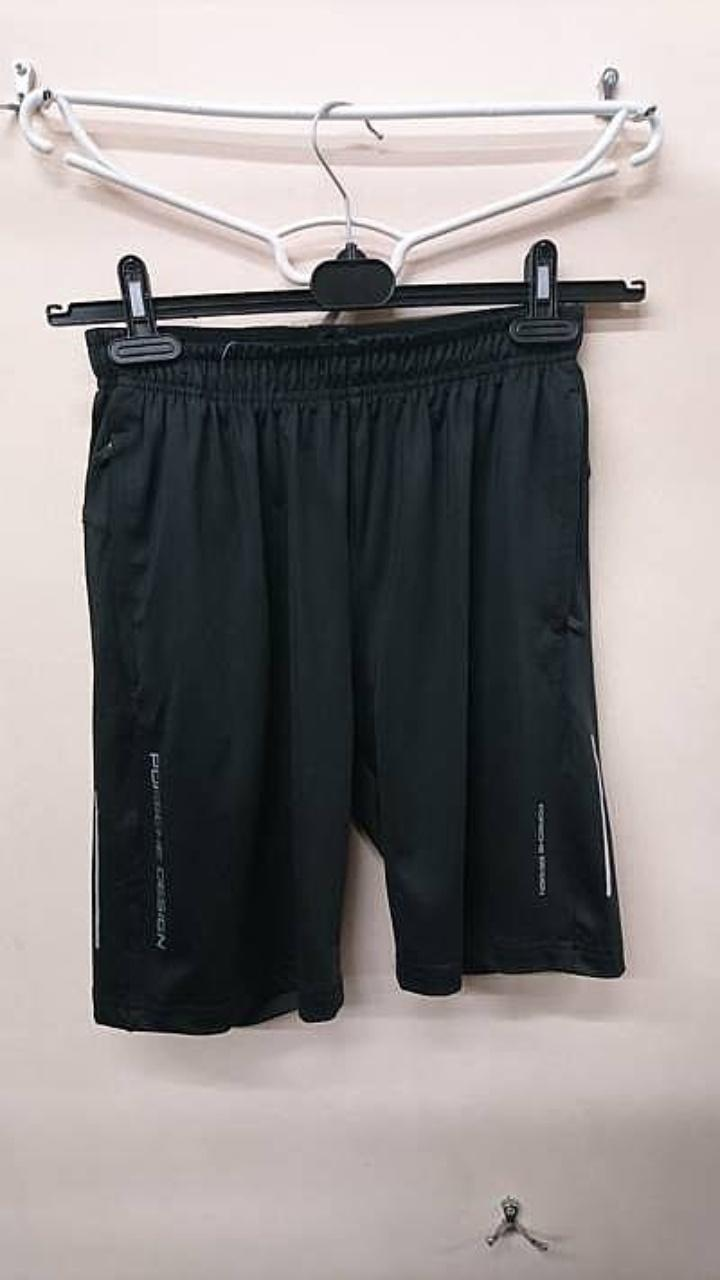Shorts: (82, 307, 623, 1032)
